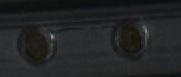joints: (15, 23, 60, 66), (111, 18, 151, 60)
